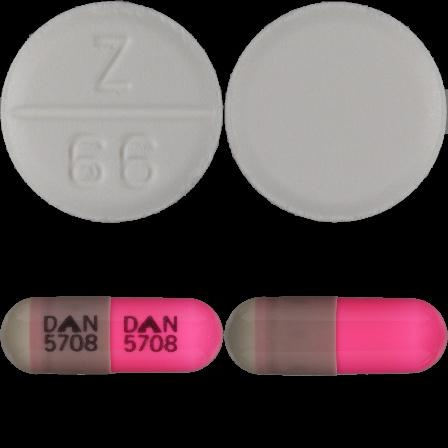68788-6458: (0, 0, 224, 224)
